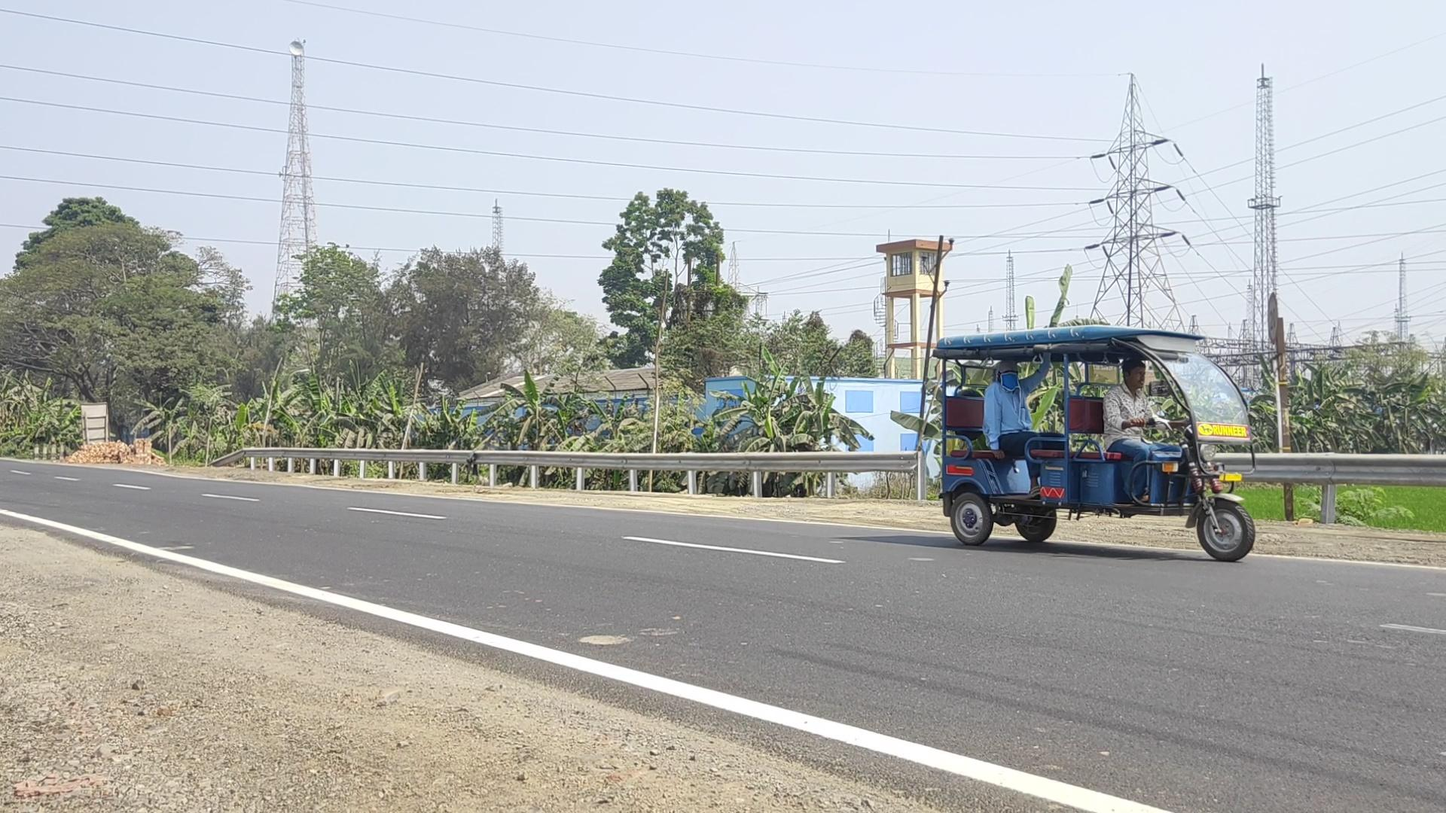Auto: (932, 324, 1256, 563)
